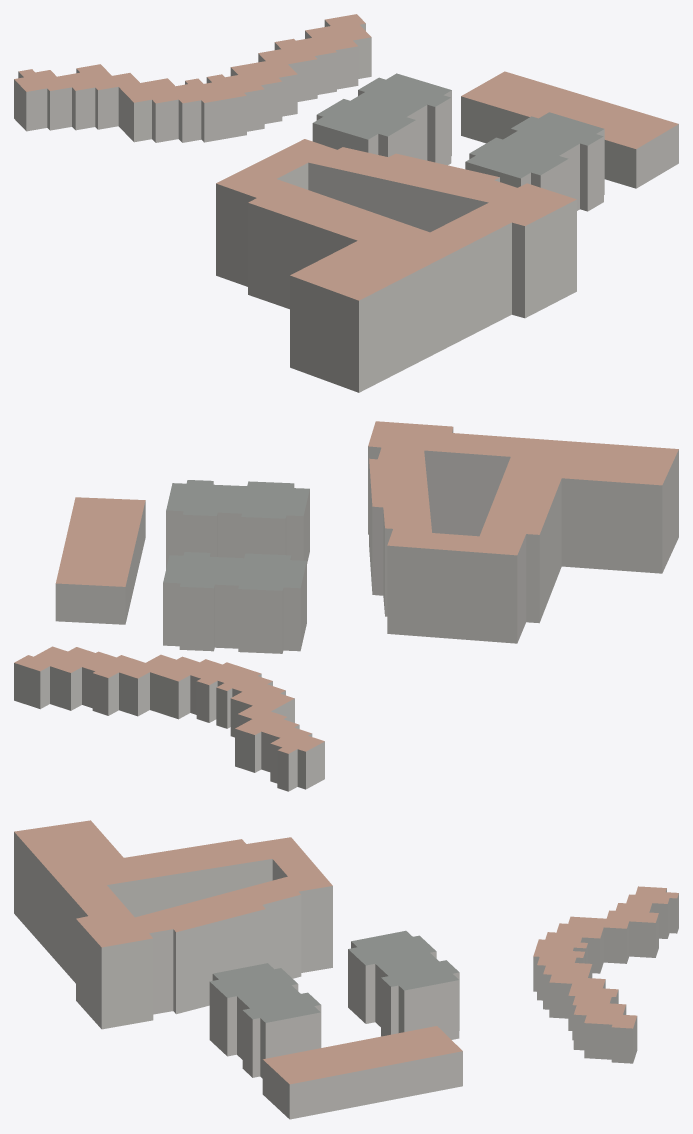
The model's file is gridID_95.dae.
3 renders of one model, top to bottom at view 1: azimuth 30°, elevation 25°; view 2: azimuth 150°, elevation 25°; view 3: azimuth 270°, elevation 25°, orthographic. The views are drawn at different scales.
Visible parts, largest first — view 1: model_gridID_95_r1618082_001, model_gridID_95_w376198997, model_gridID_95_w376403043, model_gridID_95_w376400917, model_gridID_95_w376400918, model_gridID_95_w376403039, model_gridID_95_w376403041; view 2: model_gridID_95_r1618082_001, model_gridID_95_w376400917, model_gridID_95_w376400918, model_gridID_95_w376198997, model_gridID_95_w376403041, model_gridID_95_w376403043, model_gridID_95_w376403039; view 3: model_gridID_95_r1618082_001, model_gridID_95_w376198997, model_gridID_95_w376400917, model_gridID_95_w376400918, model_gridID_95_w376403043, model_gridID_95_w376403041, model_gridID_95_w376403039.
Part boxes in pixels (x1,y1,x2,y2): model_gridID_95_r1618082_001: (216, 139, 576, 392); model_gridID_95_w376198997: (461, 71, 678, 188); model_gridID_95_w376403043: (118, 58, 297, 142); model_gridID_95_w376400917: (312, 73, 451, 165); model_gridID_95_w376400918: (465, 112, 604, 211); model_gridID_95_w376403039: (14, 64, 139, 131); model_gridID_95_w376403041: (258, 14, 371, 101); model_gridID_95_r1618082_001: (368, 421, 678, 643); model_gridID_95_w376400917: (163, 552, 306, 653); model_gridID_95_w376400918: (166, 480, 309, 568); model_gridID_95_w376198997: (55, 497, 145, 624); model_gridID_95_w376403041: (14, 646, 149, 716); model_gridID_95_w376403043: (137, 654, 294, 737); model_gridID_95_w376403039: (235, 706, 324, 791); model_gridID_95_r1618082_001: (14, 820, 332, 1029); model_gridID_95_w376198997: (262, 1026, 462, 1119); model_gridID_95_w376400917: (348, 930, 459, 1039); model_gridID_95_w376400918: (209, 963, 321, 1078); model_gridID_95_w376403043: (533, 916, 606, 1018); model_gridID_95_w376403041: (568, 978, 637, 1063); model_gridID_95_w376403039: (603, 886, 678, 963).
Bounding box in the file's own units: 99.51 × 129 × 17.5.
